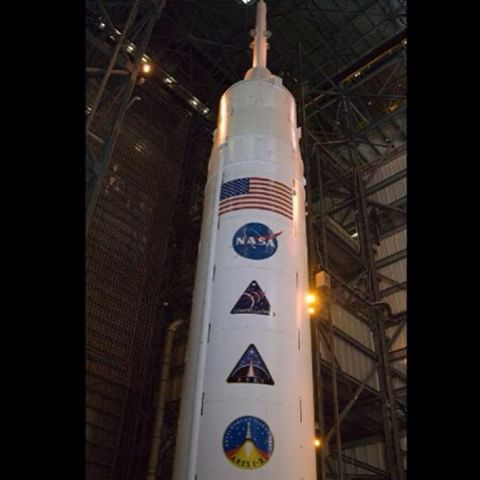NASA: (229, 219, 287, 262)
